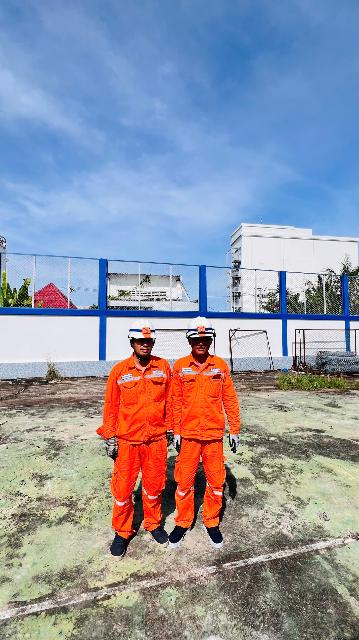gloves: (222, 432, 245, 454), (104, 436, 124, 456), (163, 427, 175, 447), (172, 434, 185, 450)
helmet: (129, 318, 165, 346), (185, 314, 222, 339)
shoes: (102, 530, 136, 558), (199, 523, 235, 547), (167, 523, 196, 545), (145, 526, 171, 547)
